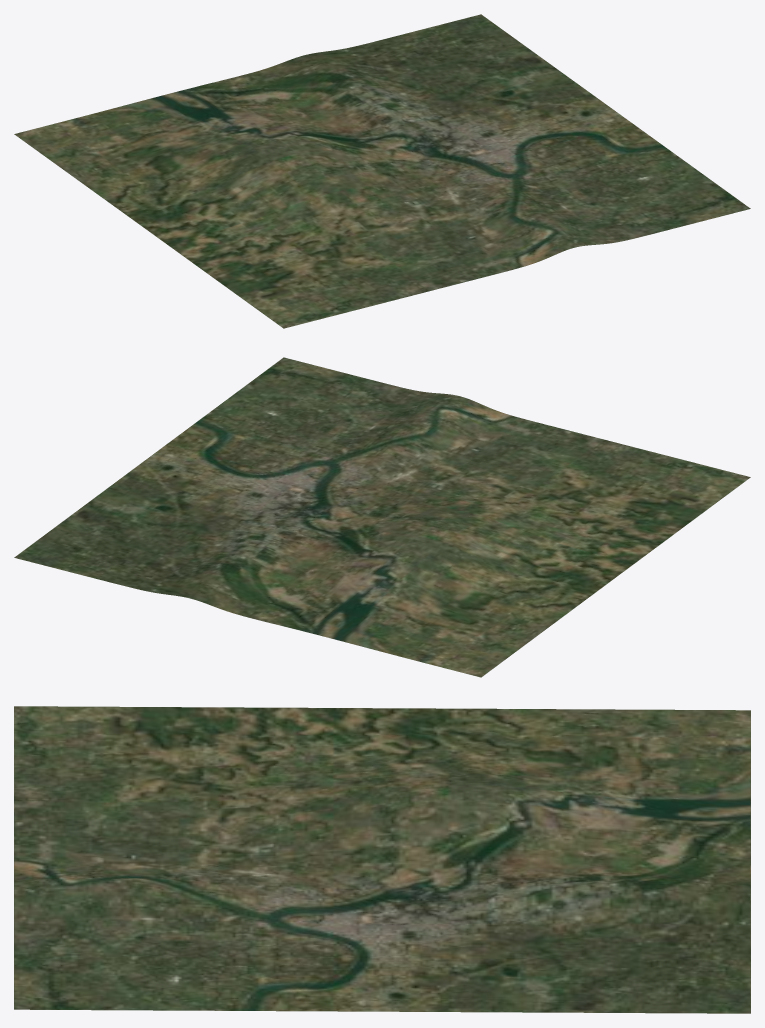
3 views of the same model, one above another, from view 1: azimuth 30°, elevation 25°; view 2: azimuth 150°, elevation 25°; view 3: azimuth 270°, elevation 25° (orthographic). The views are drawn at different scales.
Parts seen in each view (by area): view 1: geometry_0; view 2: geometry_0; view 3: geometry_0.
Part boxes in pixels (left/top/right/bottom): geometry_0: left=14, top=14, right=750, bottom=328; geometry_0: left=14, top=357, right=750, bottom=677; geometry_0: left=14, top=706, right=750, bottom=1013.
Bounding box in the file's own units: 10000 × 386 × 10000.
1 material, 1 textured.
